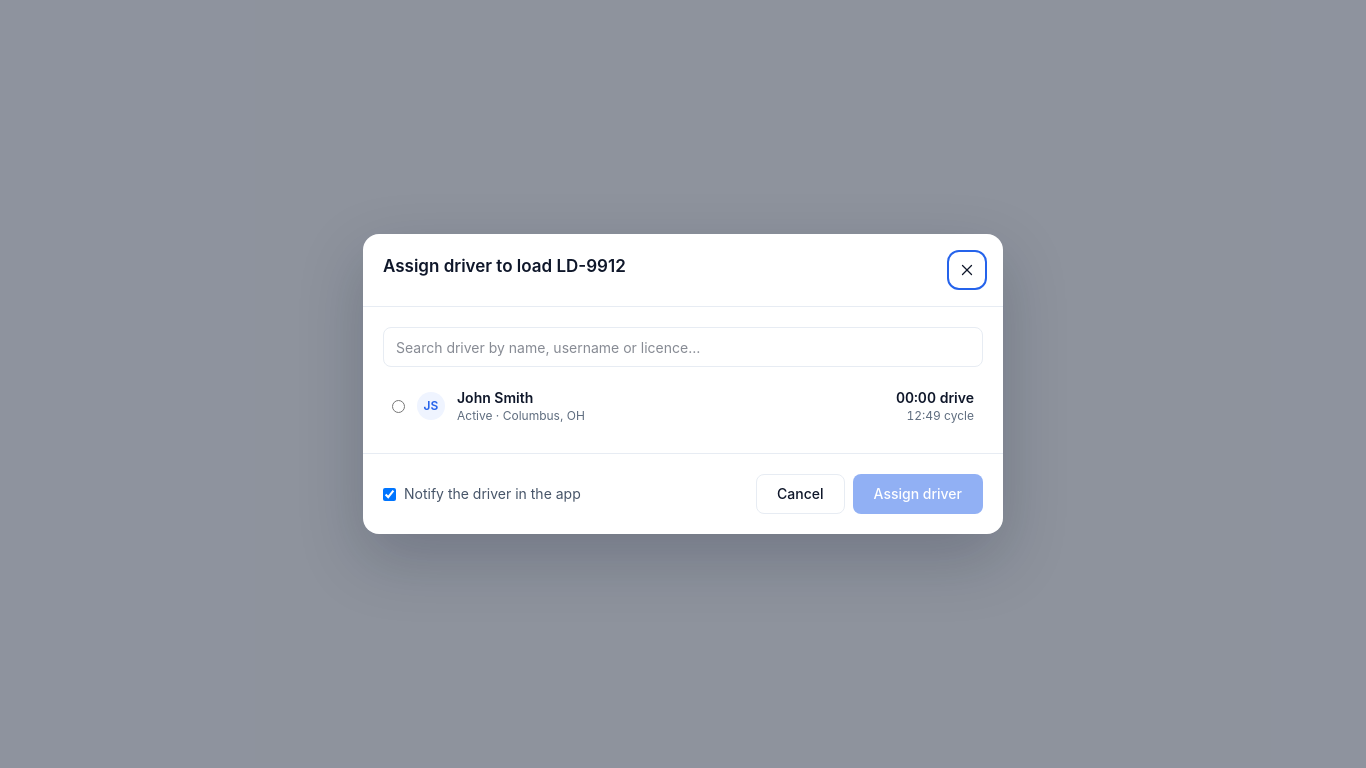
Test case: AssignLoadModal — 11.4 load variant › assigns the picked driver and sends only what the endpoint accepts
The width and height of the screenshot is (1366, 768).
Click the text "John Smith" at coordinates (495, 398), box [457,389,533,406]
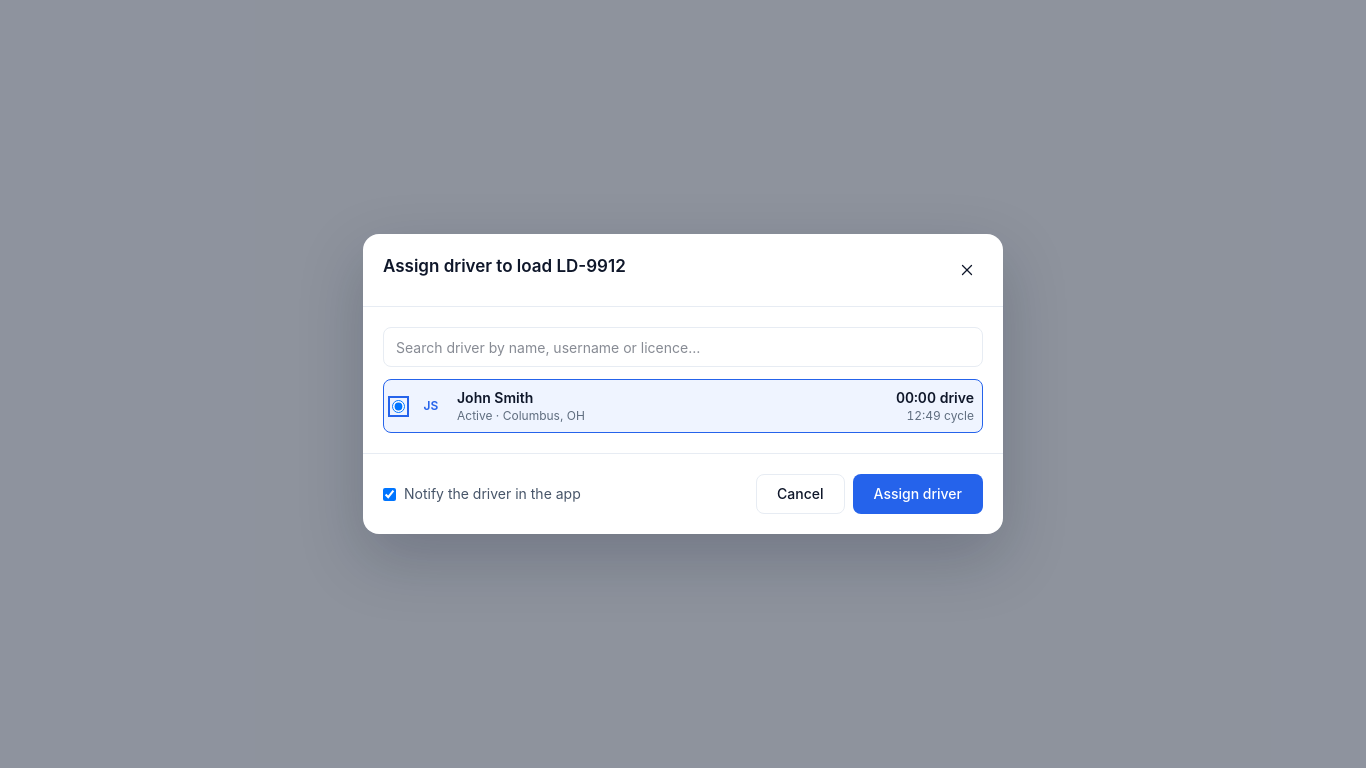
Click the button "Assign driver" at coordinates (918, 494), box [853,474,983,514]
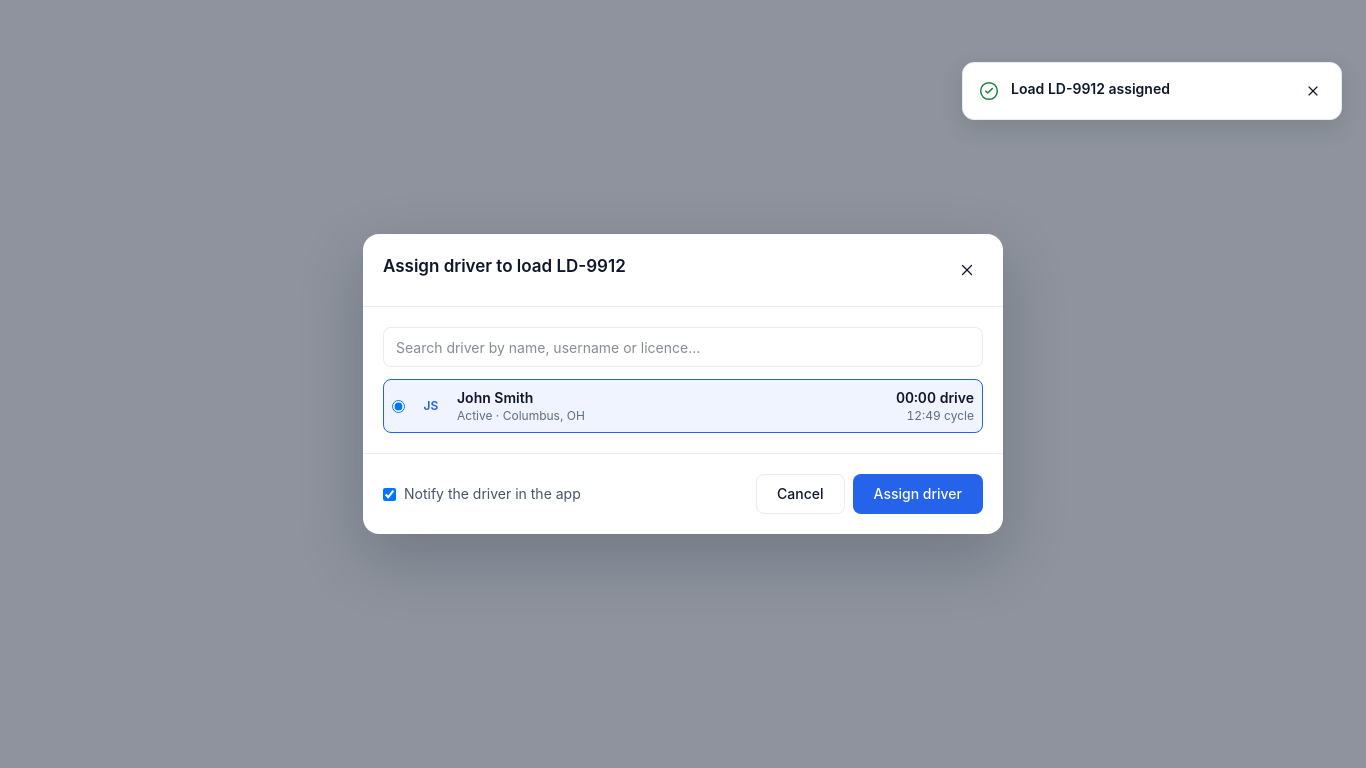
Check: the text "Load LD-9912 assigned" is shown, box [1011,80,1170,97]
